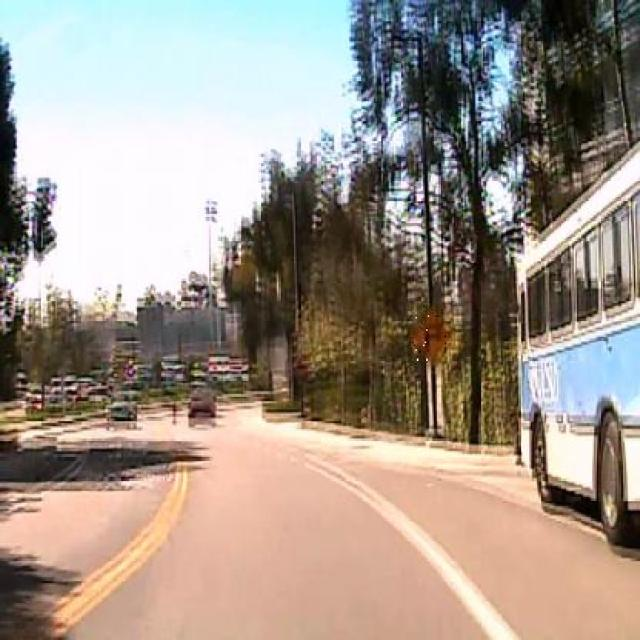turnRight: (412, 306, 451, 361)
